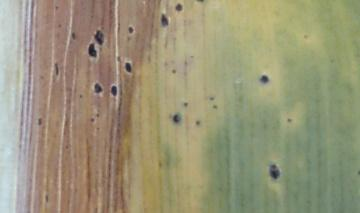tarspot: (269, 164, 281, 181), (94, 30, 104, 45), (87, 43, 97, 57), (93, 82, 104, 94), (172, 111, 181, 125), (109, 83, 117, 97), (161, 14, 169, 28), (53, 62, 60, 77), (174, 3, 183, 13), (260, 75, 269, 85), (125, 62, 132, 73), (127, 25, 135, 34), (37, 116, 43, 125), (44, 194, 50, 203), (71, 31, 77, 40), (195, 118, 201, 127), (115, 54, 121, 63), (302, 33, 308, 41), (171, 67, 177, 74), (285, 117, 292, 123), (53, 4, 59, 11), (89, 116, 95, 122), (56, 23, 63, 28), (207, 97, 215, 101), (94, 112, 100, 117), (212, 104, 218, 109), (77, 93, 83, 98), (189, 54, 195, 59), (184, 100, 188, 107), (195, 1, 206, 3)
